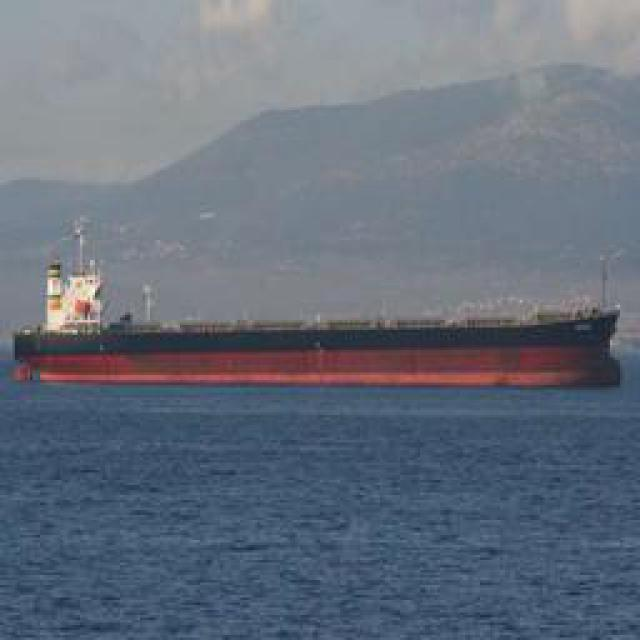Ship: (20, 302, 618, 385)
